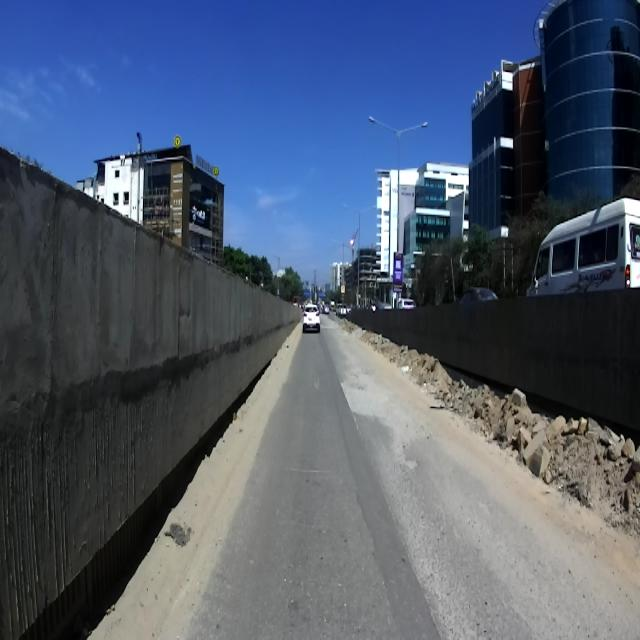car ahead at: (302, 303, 321, 334)
